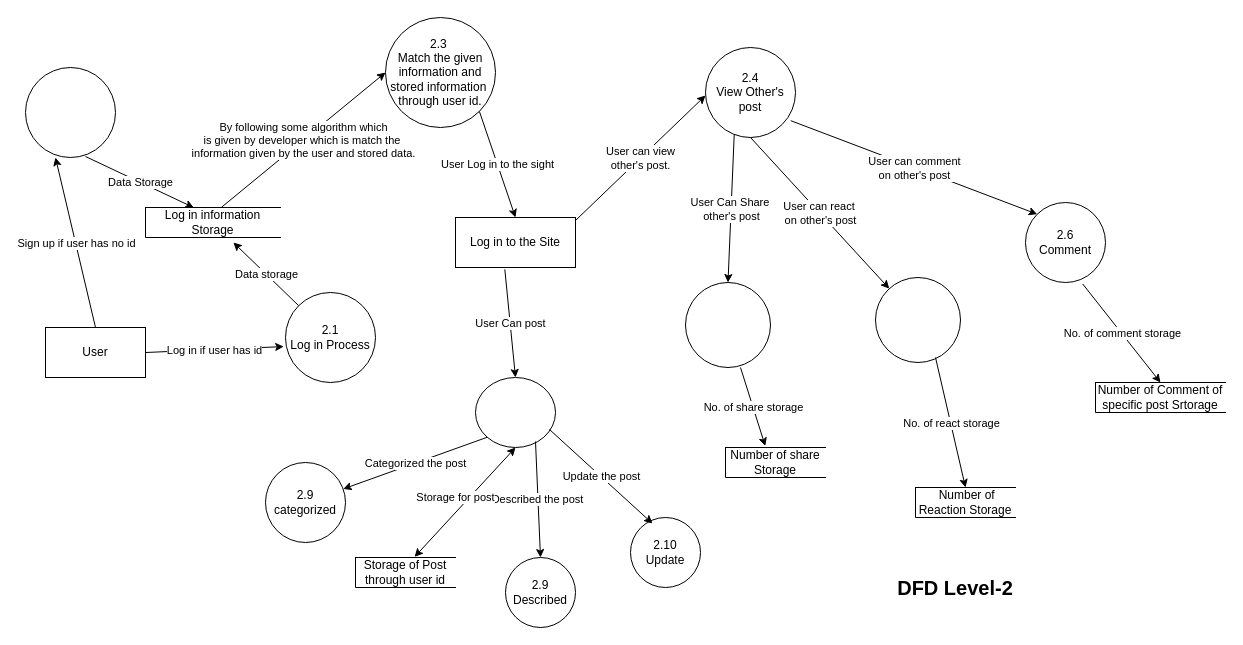
The diagram is 1243 pixels wide and 645 high, and some of its shapes have lost their labels. The shapes that lost their labels are listed below. From the top down, each one's box as (x1, y1, x2, y2) in pixels, then its label:
(24, 66, 116, 158): 2.2 Sign up process
(684, 282, 770, 368): 2.7 Share
(874, 276, 960, 362): 2.5 React
(474, 376, 556, 448): 2.8 Post
